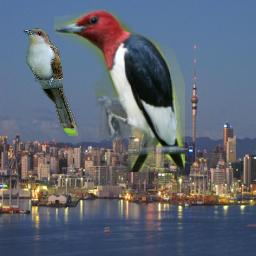Cuckoo: (23, 28, 78, 136)
Woodpecker: (54, 9, 185, 172)
